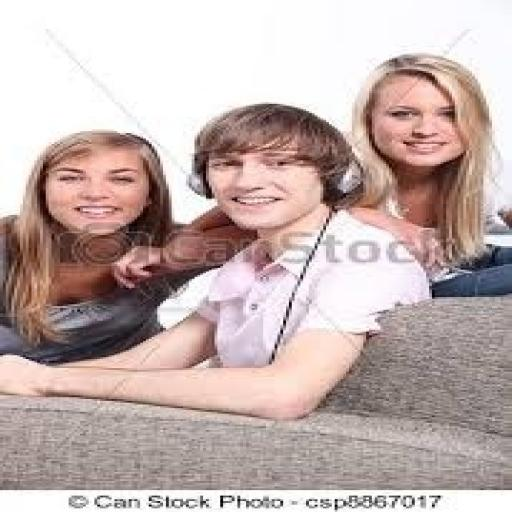listening_to_music: (0, 100, 435, 423)
